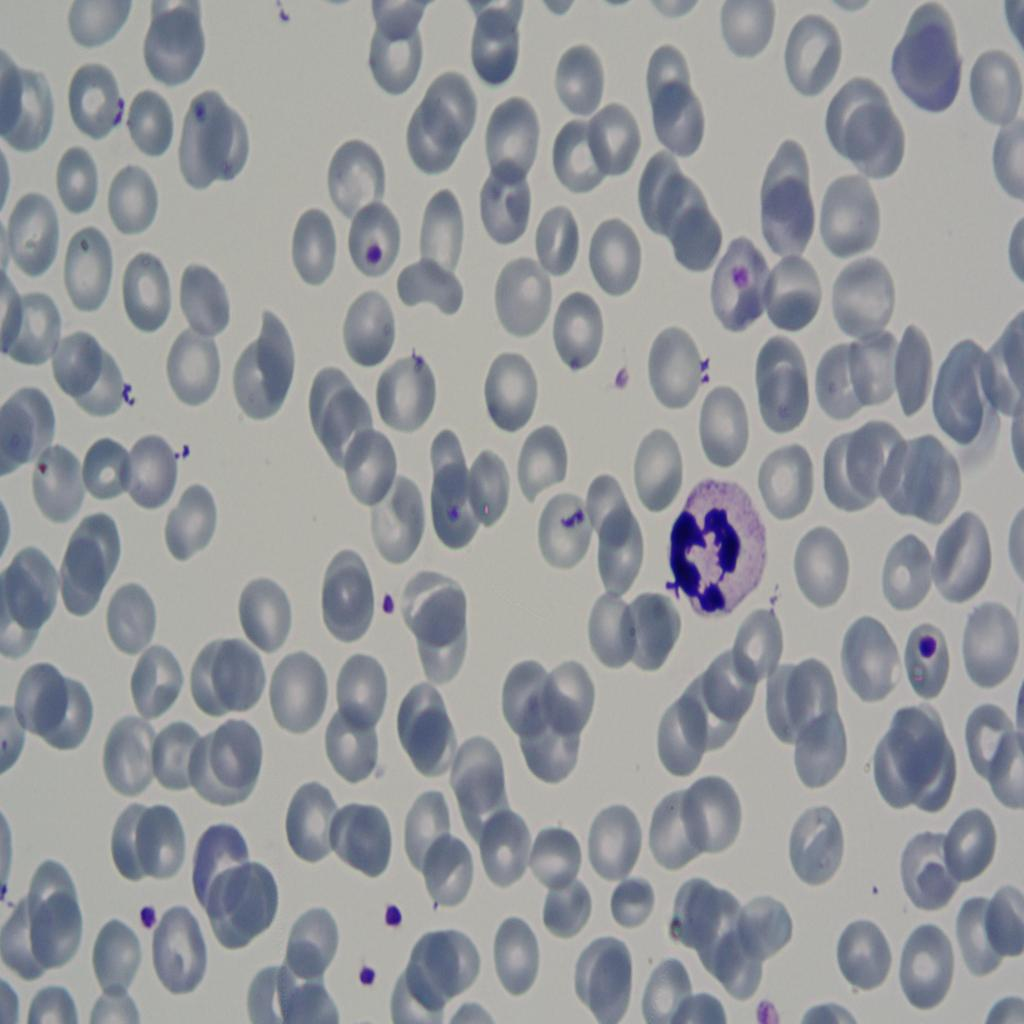Neutrofil: (662, 472, 770, 613)
Platelet: (356, 226, 390, 278), (599, 354, 629, 406), (722, 259, 758, 301), (126, 891, 160, 933), (375, 580, 402, 626), (352, 960, 383, 998), (748, 984, 777, 1024), (381, 892, 410, 932), (912, 632, 939, 665), (438, 488, 460, 526)
